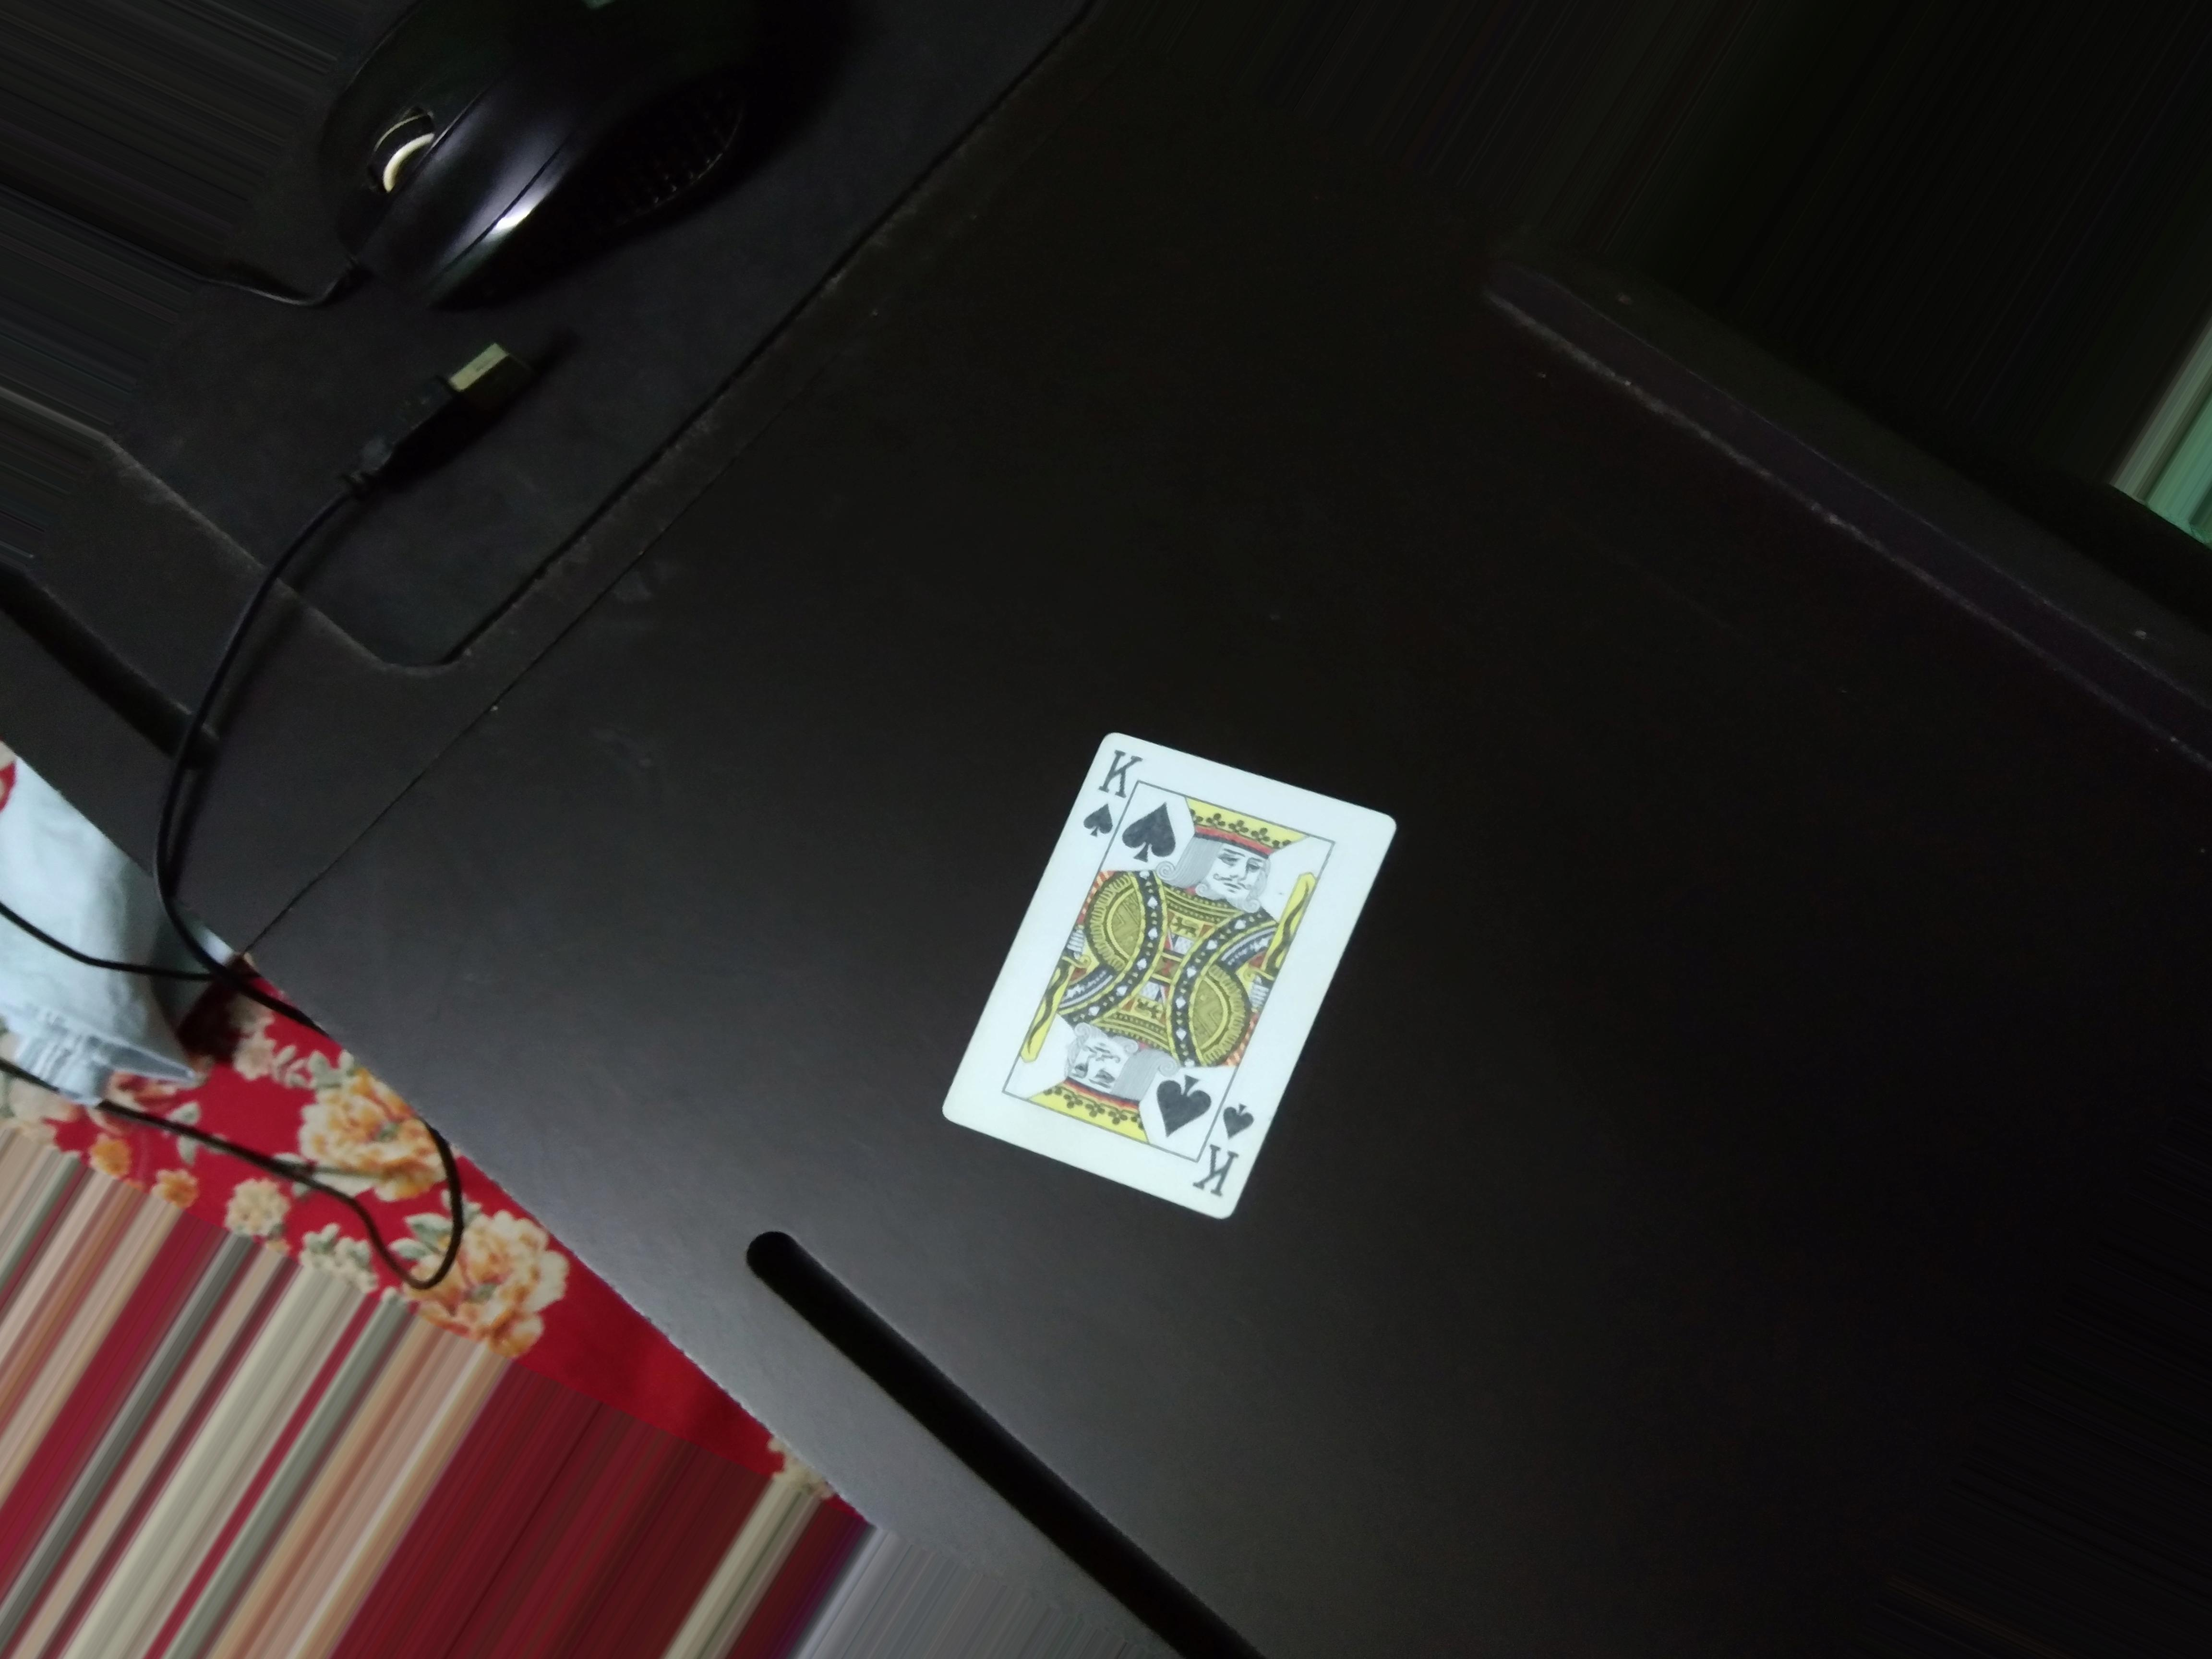KS: (1186, 1096, 1277, 1194)
